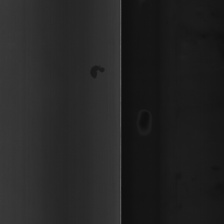oil_spot: (87, 59, 107, 85)
